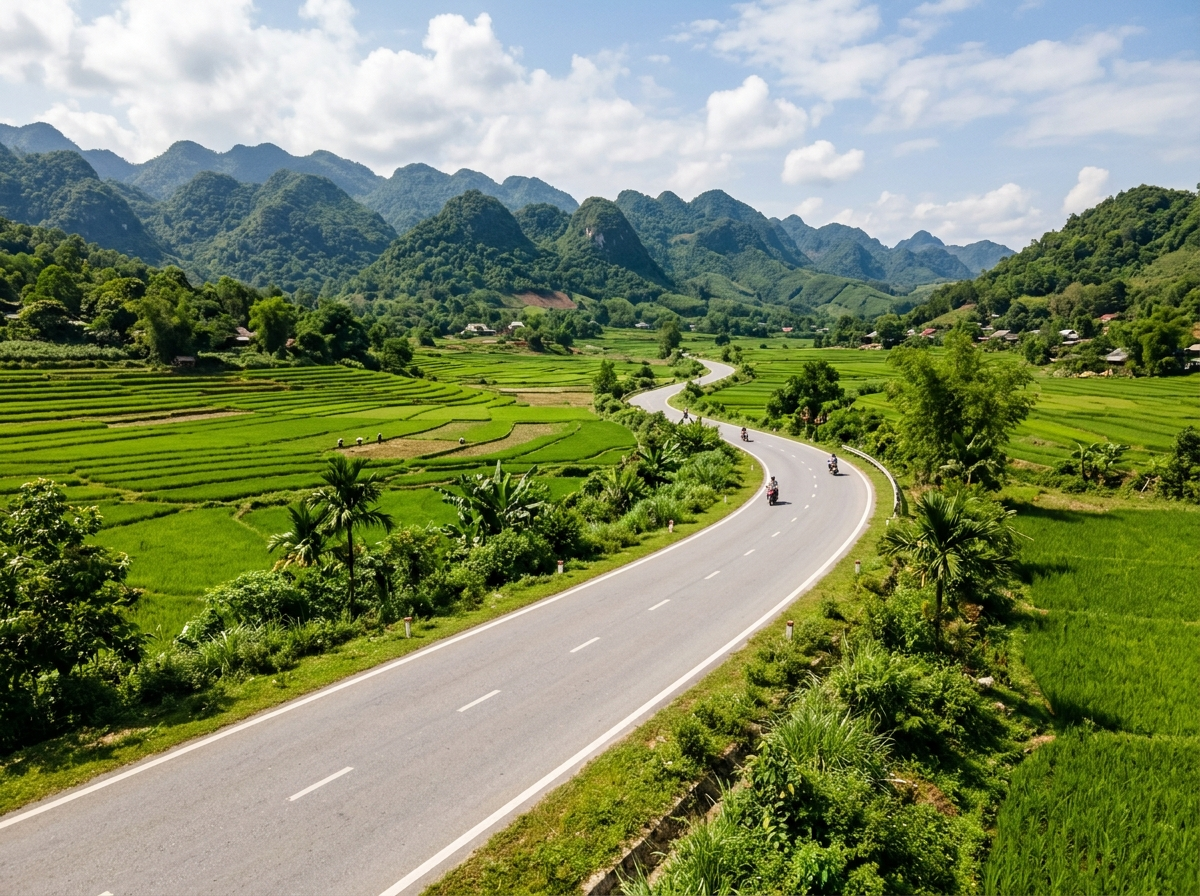ROAD_FLOODING: (36, 376, 1092, 806)
